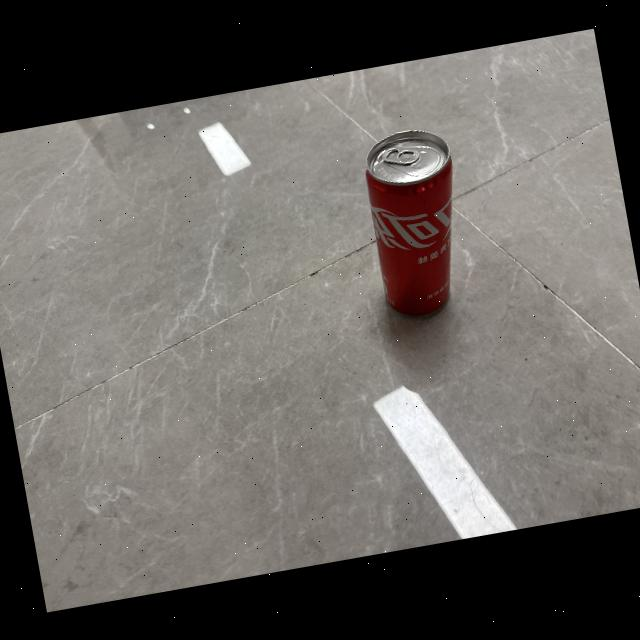Cola: (348, 118, 482, 330)
